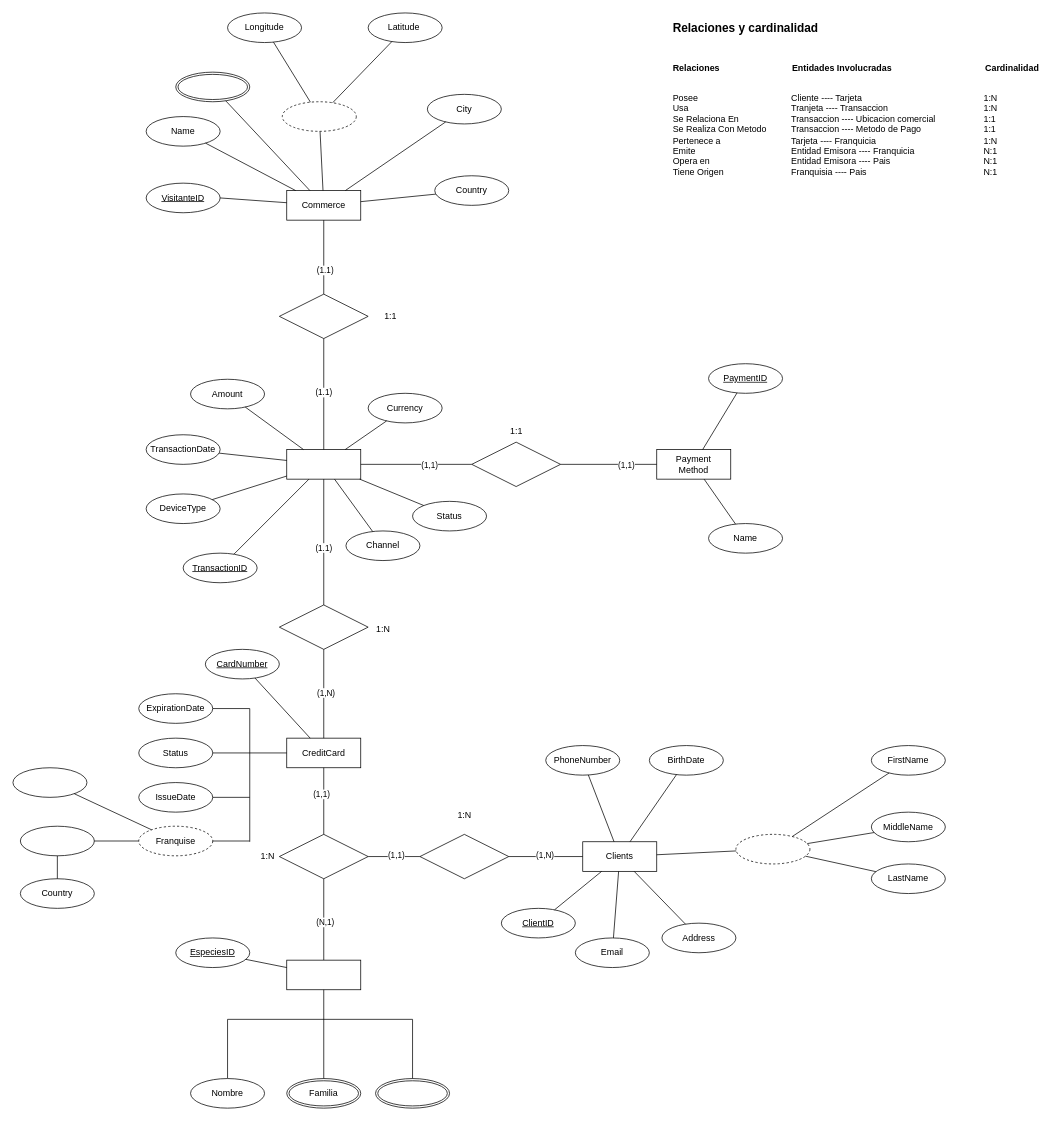
This 1062x1121 diagram has some shape labels left out. Each missing label, with the centre of its shape:
"Category" belongs at point 212,86.
"Coordenates Geographic" belongs at point 319,116.
"CountryOrigin" belongs at point 49,782.
"Especies" belongs at point 323,974.
"Estado Conservacion" belongs at point 412,1093.
"FullName" belongs at point 772,849.
"Haz" belongs at point 464,856.
"IssueBanker" belongs at point 57,840.
"Likend" belongs at point 323,316.
"Pertenece" belongs at point 323,856.
"Register" belongs at point 323,626.
"Transactions" belongs at point 323,464.
"Used" belongs at point 516,464.
